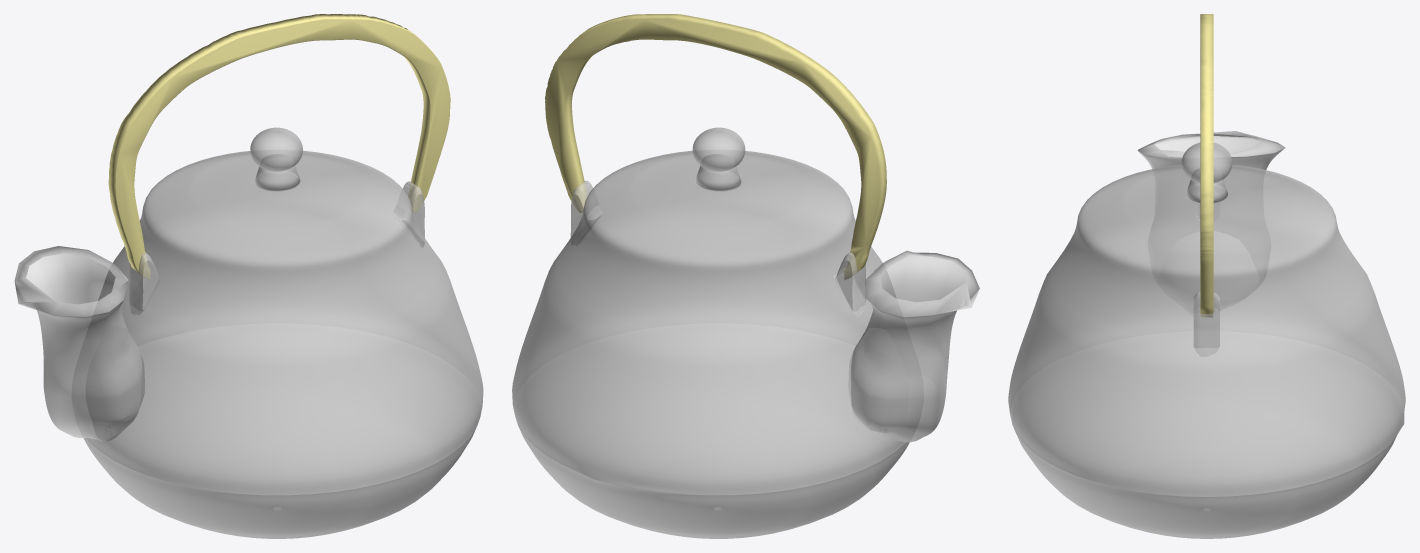
File: tetera.glb
3 renders of one model, left to right at view 1: azimuth 30°, elevation 25°; view 2: azimuth 150°, elevation 25°; view 3: azimuth 270°, elevation 25°, orthographic. The views are drawn at different scales.
Visible parts, largest first — view 1: Curva Bézier.004, Curva Bézier; view 2: Curva Bézier.004, Curva Bézier; view 3: Curva Bézier.004, Curva Bézier.
Part boxes in pixels (box(x1,y1,x2,y2)): Curva Bézier.004: box(14, 127, 483, 538); Curva Bézier: box(108, 14, 450, 279); Curva Bézier.004: box(512, 127, 979, 538); Curva Bézier: box(545, 14, 886, 279); Curva Bézier.004: box(1008, 131, 1405, 538); Curva Bézier: box(1200, 14, 1213, 317).
Bounding box in the file's own units: 4.35 × 4.64 × 3.57.
Materials: 2 (1 with a texture image).
